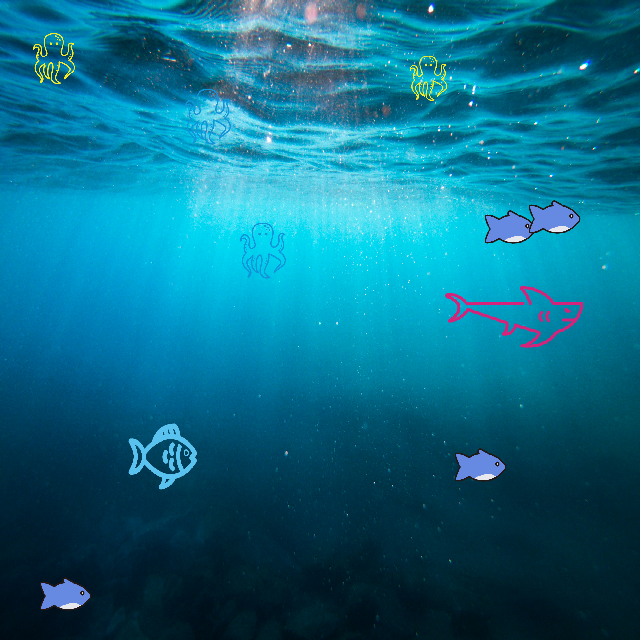target fish: (444, 283, 585, 349)
